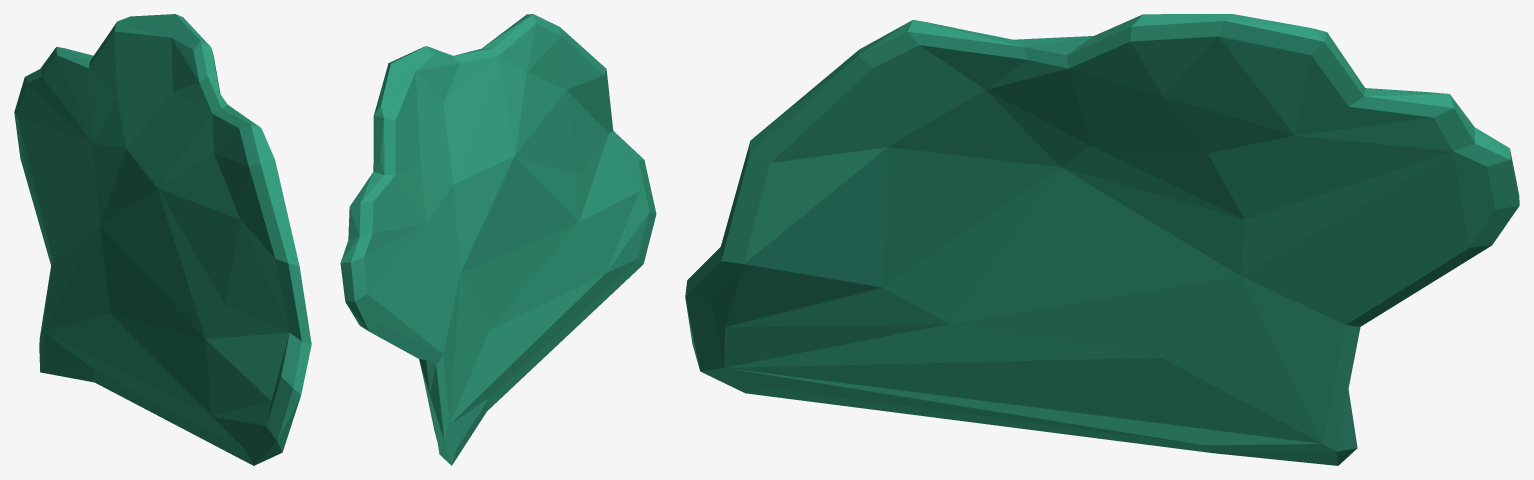
File: SM_B_GiantFungi_01.fbx
The picture shows the model from 3 angles, left to right: view 1: azimuth 30°, elevation 25°; view 2: azimuth 150°, elevation 25°; view 3: azimuth 270°, elevation 25°; orthographic projection. The views are drawn at different scales.
Parts seen in each view (by area): view 1: SM_B_GiantFungi_01; view 2: SM_B_GiantFungi_01; view 3: SM_B_GiantFungi_01.
Boxes of the visible parts, bbox=[...] form: SM_B_GiantFungi_01: bbox=[14, 14, 311, 465]; SM_B_GiantFungi_01: bbox=[340, 14, 656, 465]; SM_B_GiantFungi_01: bbox=[685, 14, 1519, 465].
Size of the model in its own units: 351 by 1142 by 1655.
